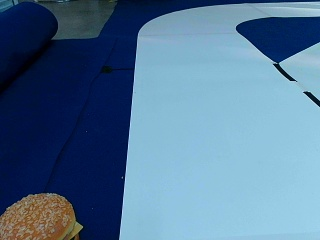burger: (2, 193, 80, 238)
